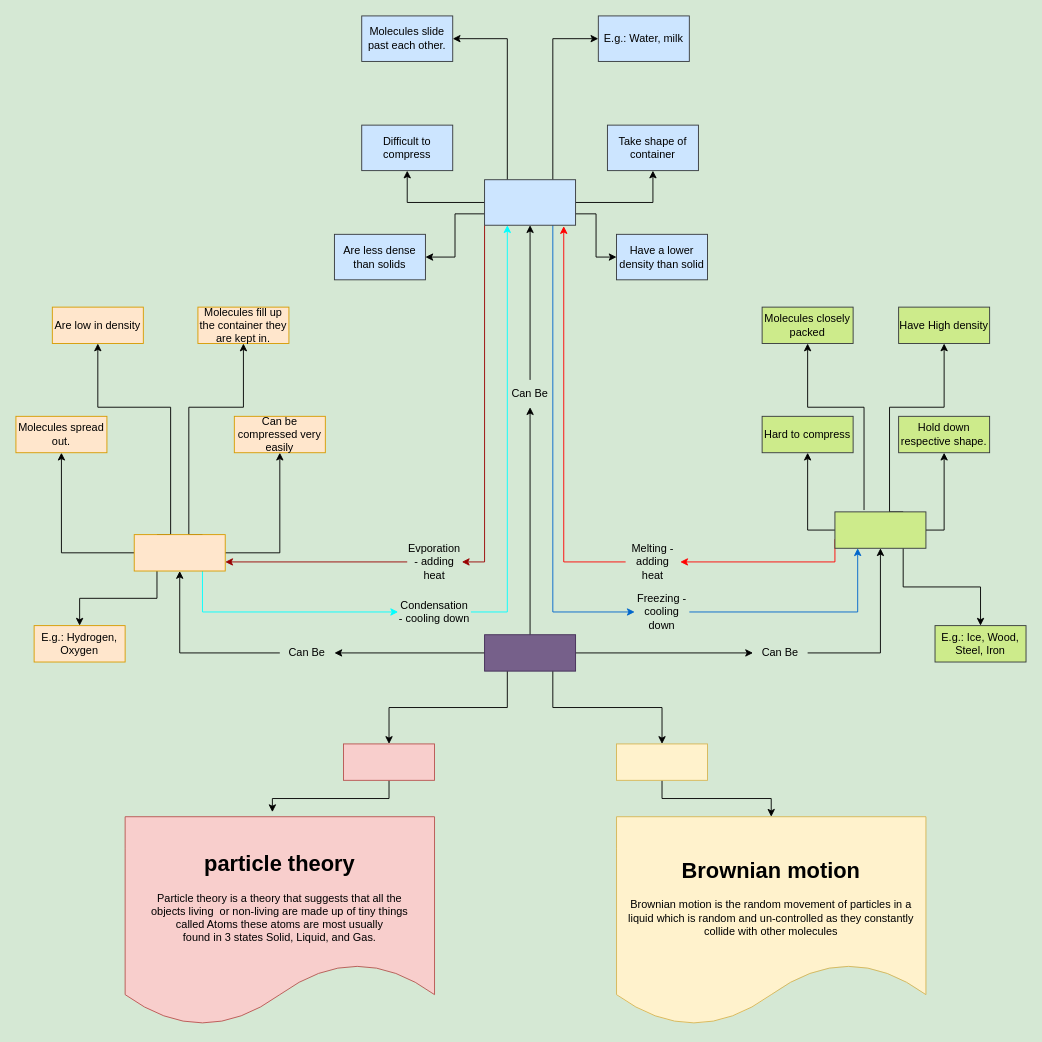
Some shapes in this 1042 by 1042 pixel diagram are drawn without their labels. Each missing label, with the box of its shape:
Brownian Motion: (616, 743, 708, 780)
GASES: (133, 534, 225, 571)
LIQUIDS: (484, 179, 576, 225)
Particle theory: (343, 743, 435, 780)
SOLIDS: (834, 511, 926, 548)
States of Matter: (484, 634, 576, 671)
